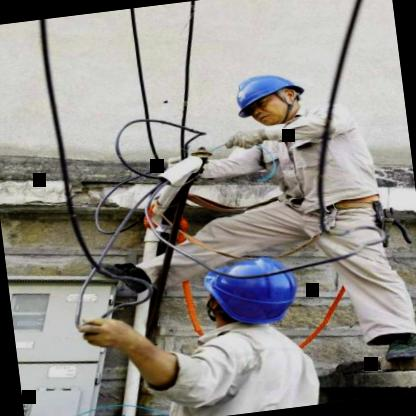helmet: (187, 246, 314, 335), (216, 60, 318, 134)
